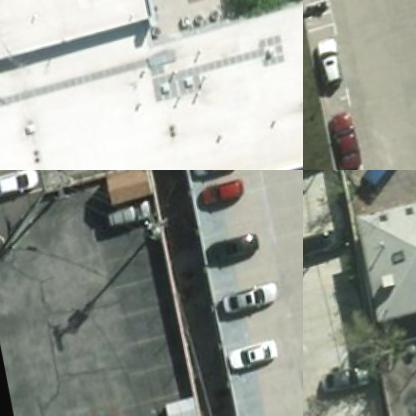car: (212, 284, 280, 326), (318, 360, 373, 408), (97, 201, 154, 244), (309, 38, 351, 92), (303, 227, 352, 272), (226, 340, 280, 380), (203, 239, 255, 279), (193, 180, 245, 220), (322, 116, 360, 169), (353, 170, 415, 194), (0, 170, 41, 205), (189, 170, 242, 190), (303, 170, 333, 186)
